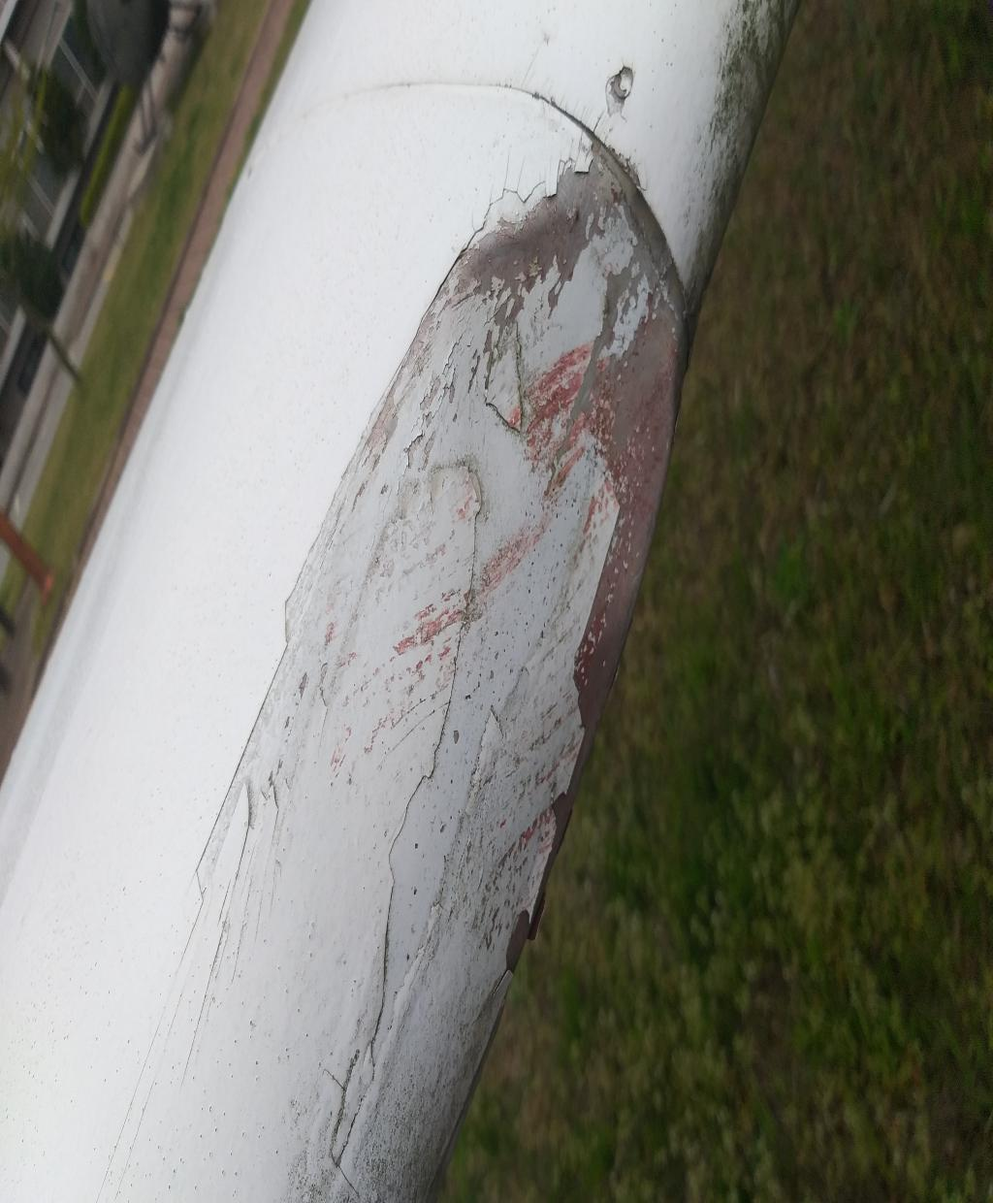corrosion: (164, 613, 496, 1203)
